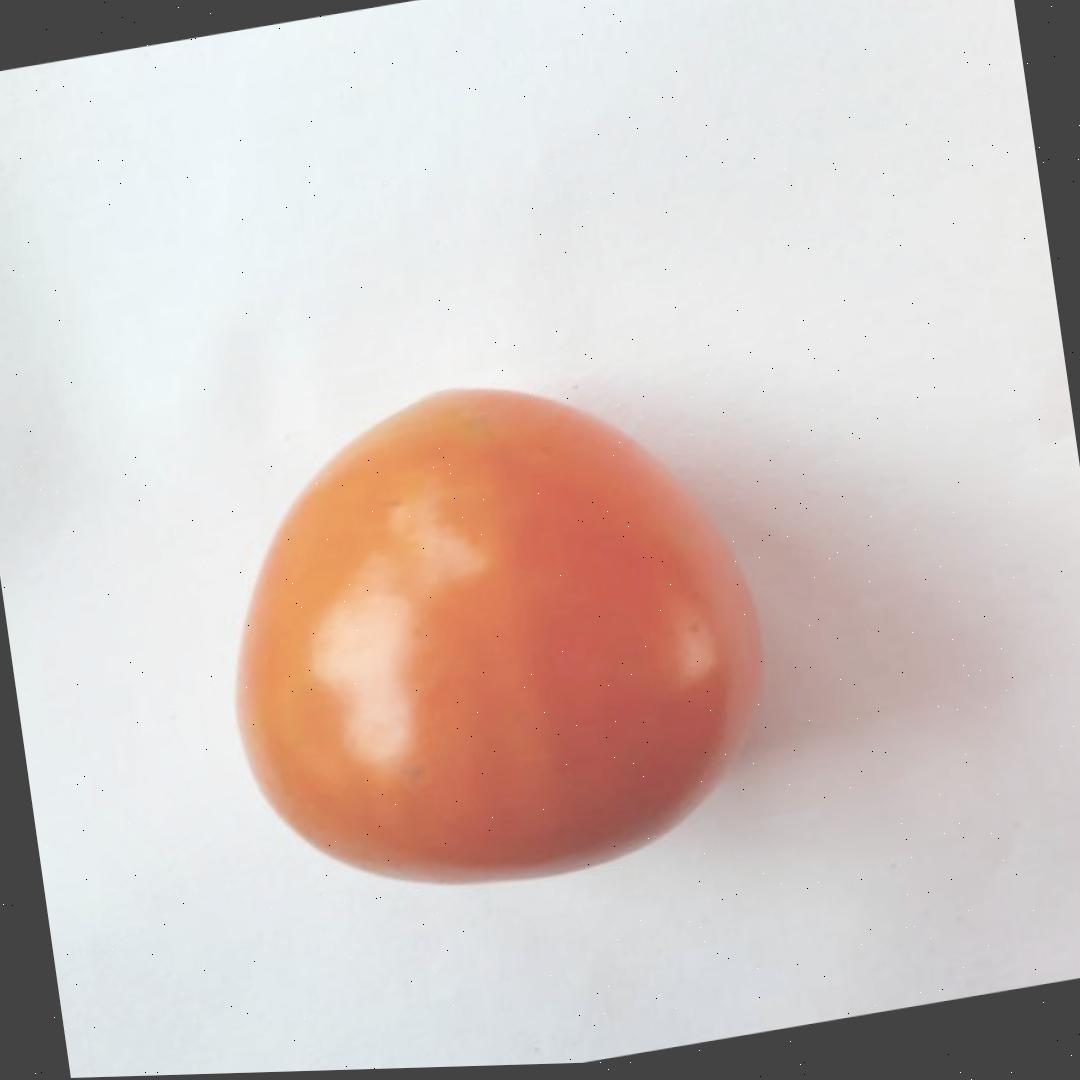setengah_matang: (192, 338, 795, 932)
